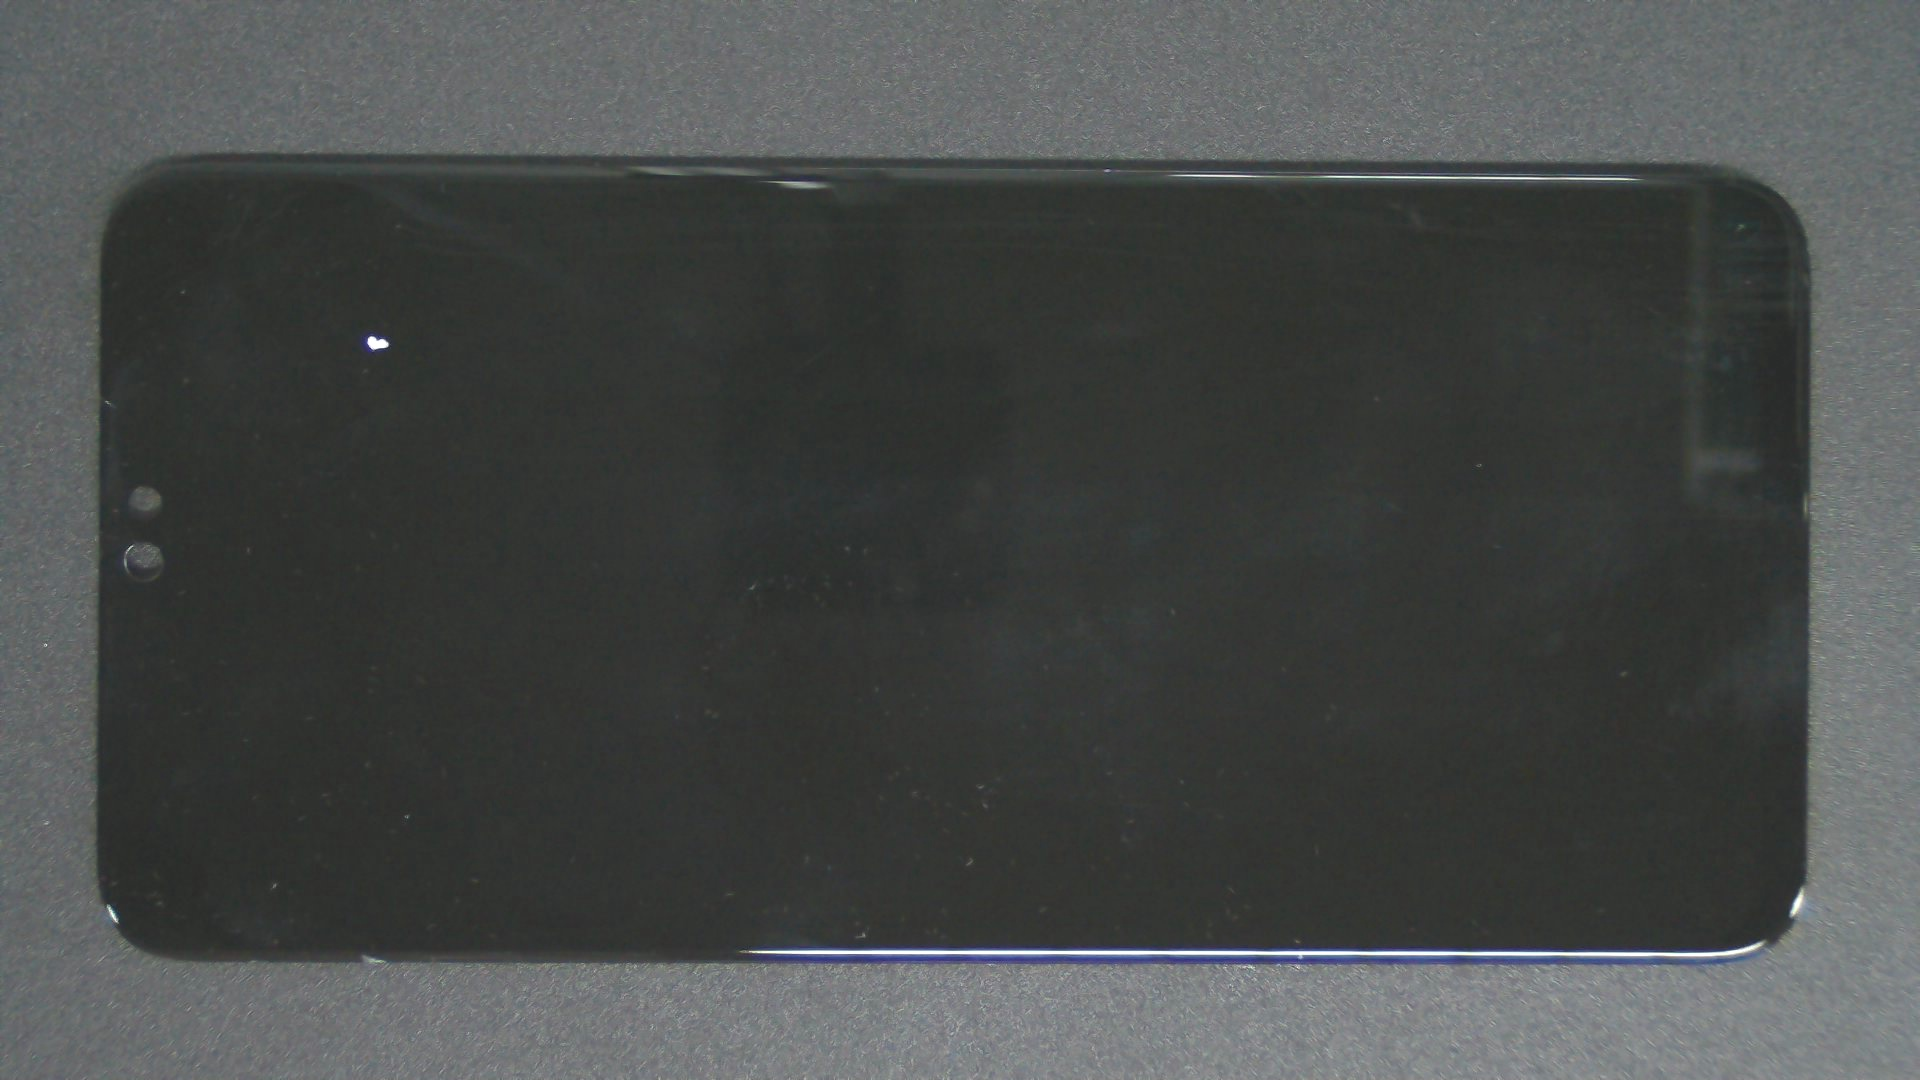oil: (187, 167, 559, 502)
